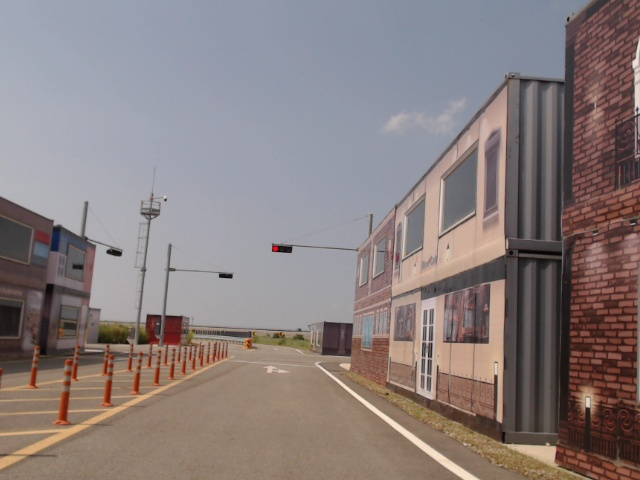red_3: (271, 244, 293, 253)
